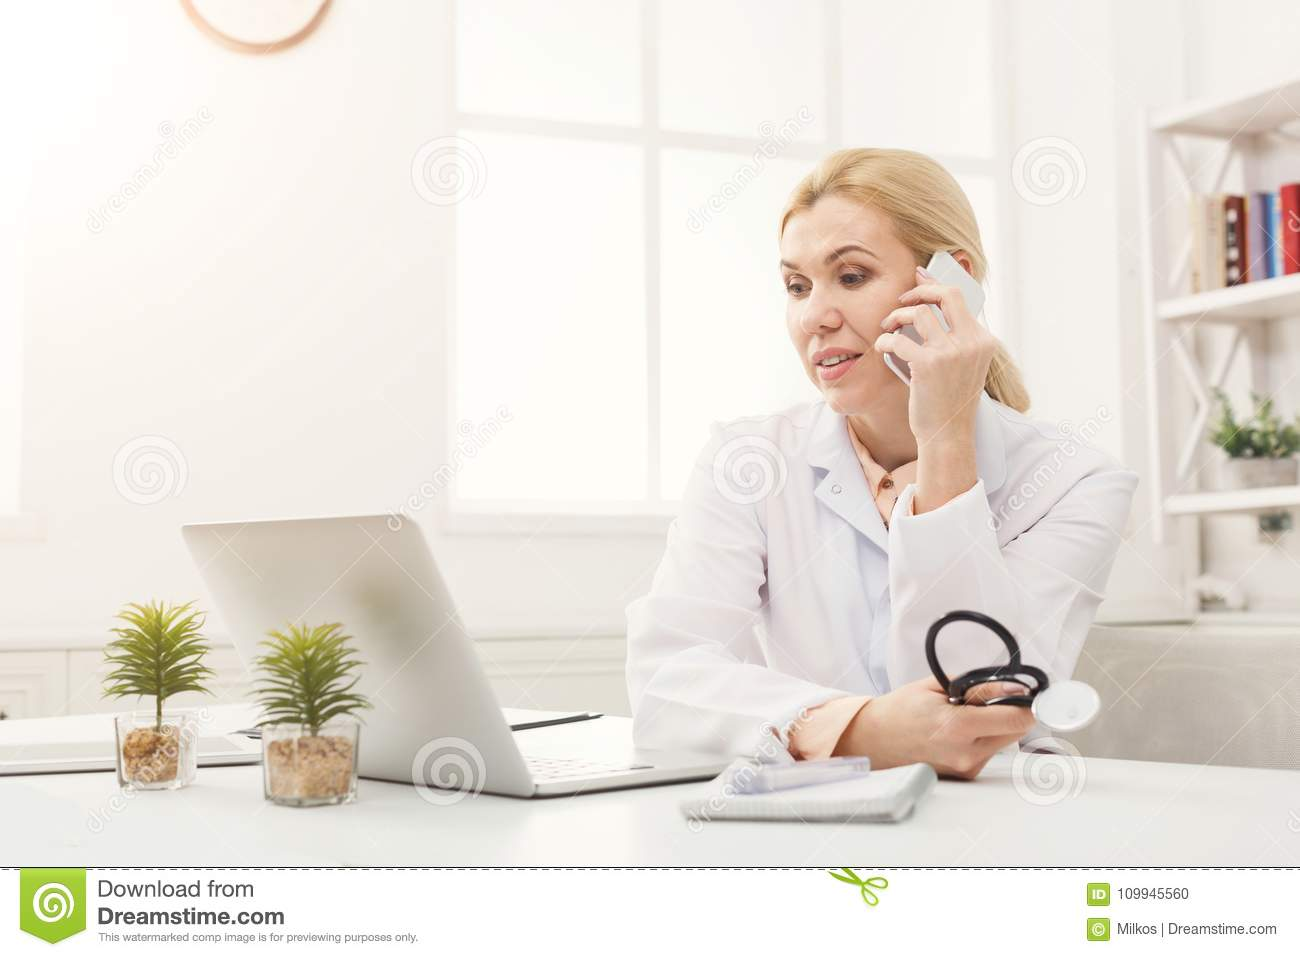phone: (883, 246, 987, 393)
talk: (781, 242, 991, 485)
